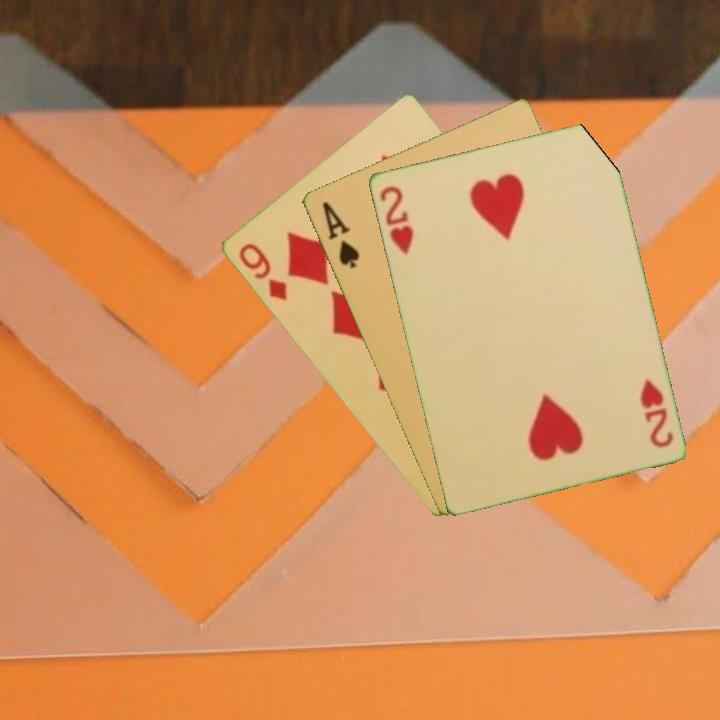2h: (636, 374, 676, 450), (376, 182, 416, 257)
9d: (234, 239, 290, 304)
As: (318, 197, 362, 272)
